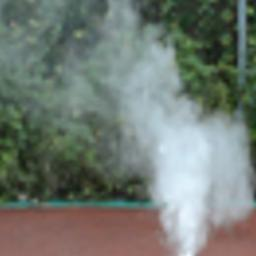smoke: (0, 0, 151, 199), (118, 32, 252, 255)
